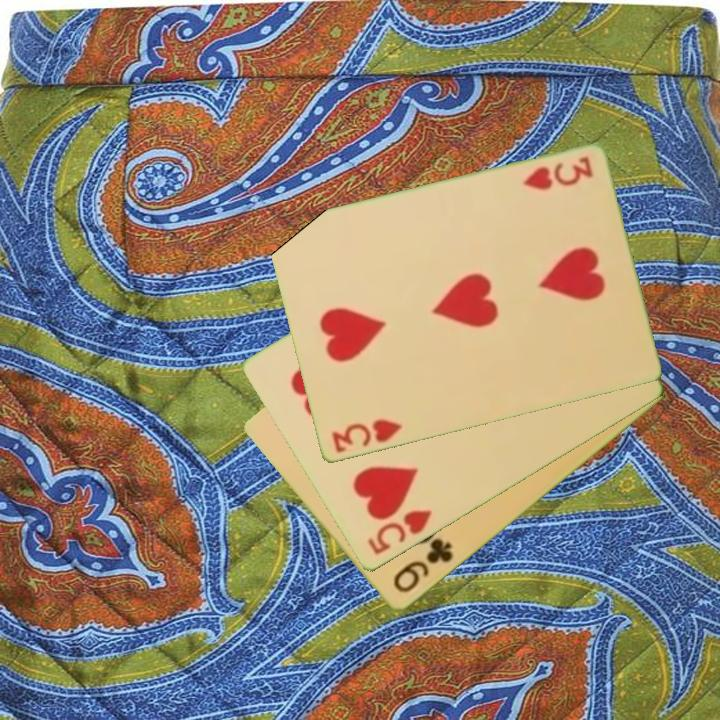3h: (327, 416, 405, 457), (519, 153, 596, 194)
5h: (364, 506, 436, 559)
9c: (389, 535, 456, 597)
